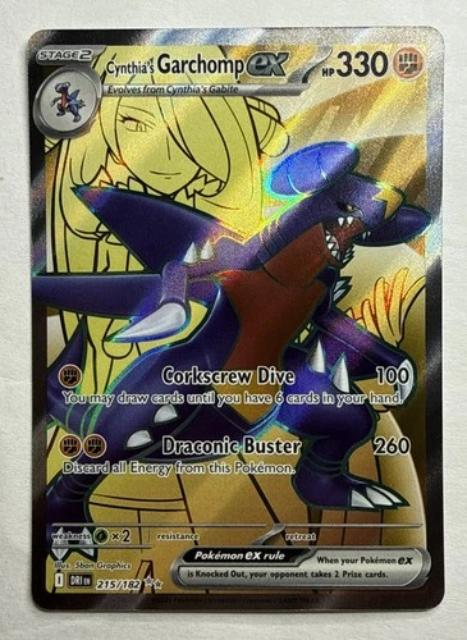Card: (21, 20, 451, 615)
Name: (101, 47, 294, 84)
